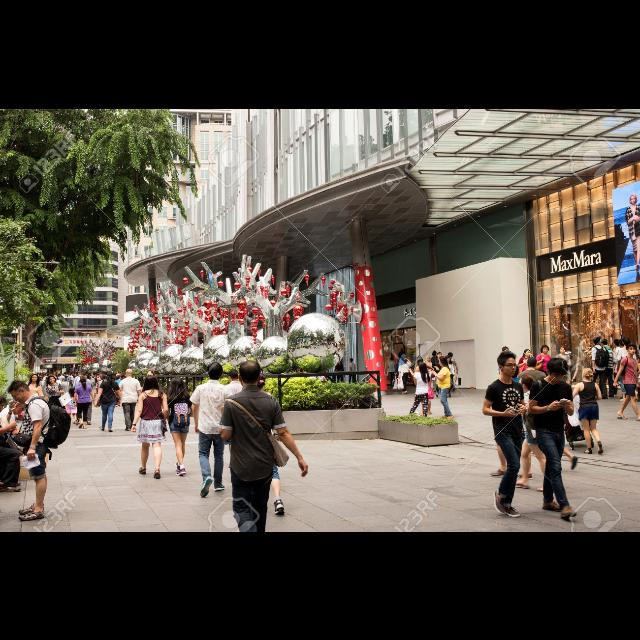head: (238, 358, 262, 388), (546, 358, 568, 384), (9, 380, 31, 404), (498, 352, 518, 378), (518, 373, 536, 392), (207, 361, 223, 381), (12, 397, 26, 415), (171, 376, 185, 390), (506, 364, 520, 378), (146, 374, 158, 390), (254, 372, 266, 388), (228, 368, 240, 382), (582, 367, 594, 381), (0, 394, 6, 413), (627, 344, 637, 354), (439, 357, 448, 368), (541, 344, 549, 354), (623, 337, 631, 347), (419, 362, 427, 372), (416, 357, 424, 367), (48, 376, 56, 384), (106, 371, 114, 379), (502, 346, 510, 354), (524, 349, 532, 357), (593, 337, 601, 345), (600, 338, 608, 346), (613, 339, 621, 347), (618, 340, 626, 348), (126, 368, 132, 378), (32, 374, 38, 382), (80, 376, 86, 384), (560, 346, 566, 354), (80, 371, 86, 379), (148, 369, 154, 376), (445, 356, 451, 362), (448, 352, 454, 358), (437, 352, 443, 358), (401, 354, 407, 360), (70, 386, 76, 392), (427, 356, 431, 362), (432, 352, 438, 356), (116, 376, 122, 380), (390, 356, 394, 360), (350, 358, 354, 362), (91, 372, 95, 376), (100, 377, 104, 381), (340, 362, 342, 366)
person: (5, 377, 72, 523), (526, 356, 580, 520), (482, 350, 530, 520), (242, 370, 292, 518), (188, 361, 234, 499), (488, 363, 534, 481), (512, 373, 556, 493), (130, 374, 170, 481), (1, 394, 40, 478), (164, 374, 196, 476), (570, 366, 606, 456), (220, 366, 250, 469), (0, 394, 24, 496), (92, 370, 124, 434), (116, 366, 144, 432), (407, 360, 435, 420), (44, 374, 72, 432), (407, 356, 433, 416), (430, 356, 454, 420), (71, 374, 97, 431), (616, 336, 638, 402), (24, 372, 46, 432), (590, 336, 610, 400), (72, 370, 94, 426), (534, 343, 554, 402), (552, 345, 574, 397), (599, 337, 617, 399), (516, 348, 536, 402), (608, 337, 622, 397), (142, 368, 158, 419), (614, 338, 628, 394), (444, 351, 460, 393), (432, 350, 446, 398), (396, 353, 412, 395), (64, 386, 80, 426), (443, 354, 457, 398), (500, 345, 512, 393), (422, 354, 434, 392), (430, 349, 440, 389), (387, 355, 399, 387), (88, 371, 99, 405), (113, 374, 123, 408), (98, 374, 108, 406), (334, 358, 346, 384), (348, 357, 358, 385)
